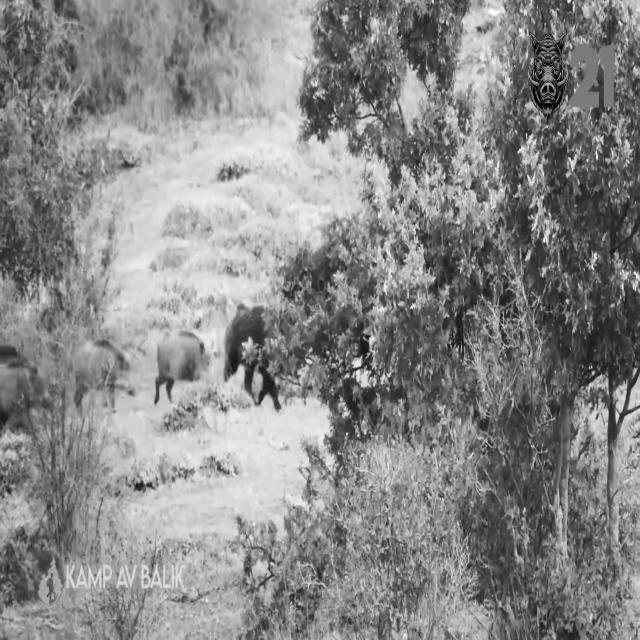boar: (71, 338, 129, 409), (224, 304, 266, 399), (154, 331, 207, 403), (0, 365, 28, 421)
